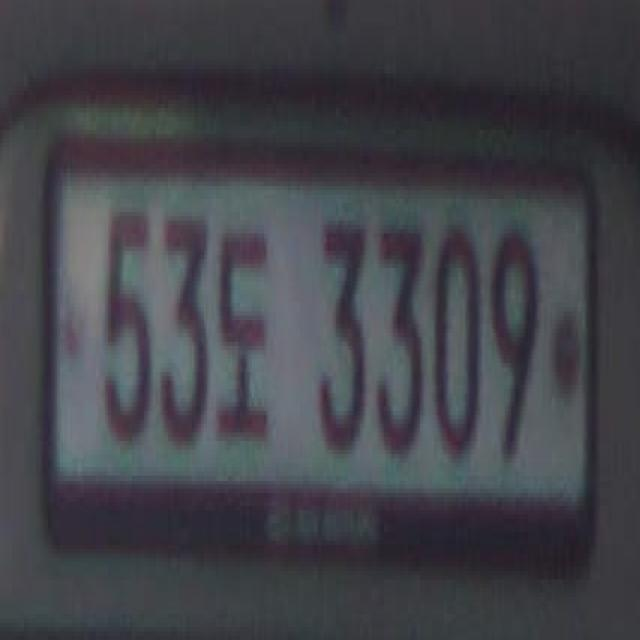0: (430, 220, 483, 476)
3: (315, 203, 376, 454), (370, 212, 429, 467), (156, 216, 216, 450)
5: (102, 208, 153, 450)
9: (484, 199, 549, 471)
do: (214, 220, 280, 437)
license_plate: (44, 126, 594, 580)
